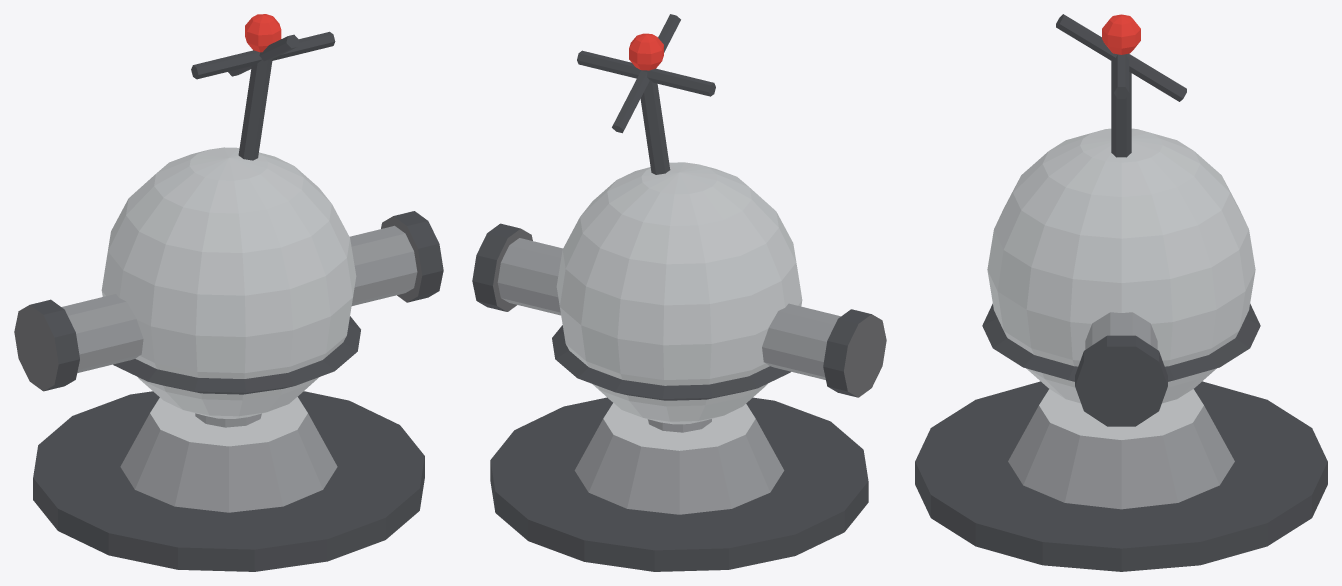
Rendered from Building_OrbitalTradeBeacon.glb.
The picture shows the model from 3 angles, left to right: view 1: azimuth 30°, elevation 25°; view 2: azimuth 150°, elevation 25°; view 3: azimuth 270°, elevation 25°; orthographic projection. The views are drawn at different scales.
Visible parts, largest first — view 1: OrbitalTradeBeacon; view 2: OrbitalTradeBeacon; view 3: OrbitalTradeBeacon.
Boxes of the visible parts, left/top/right/bottom form: OrbitalTradeBeacon: left=14, top=14, right=443, bottom=571; OrbitalTradeBeacon: left=472, top=14, right=886, bottom=571; OrbitalTradeBeacon: left=915, top=14, right=1327, bottom=571.
Size of the model in its own units: 0.9 by 1.04 by 0.8.
1 material, 1 textured.
